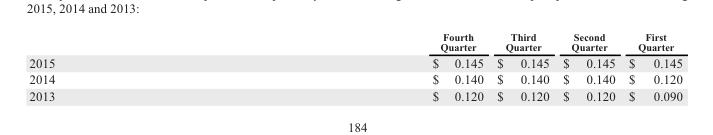table: (28, 29, 681, 104)
table column: (243, 29, 489, 104), (28, 29, 243, 104), (489, 29, 555, 104), (555, 29, 621, 104), (621, 29, 681, 104)
table column header: (28, 29, 681, 53)
table row: (28, 29, 681, 53), (28, 53, 681, 70), (28, 70, 681, 87), (28, 87, 681, 104)
